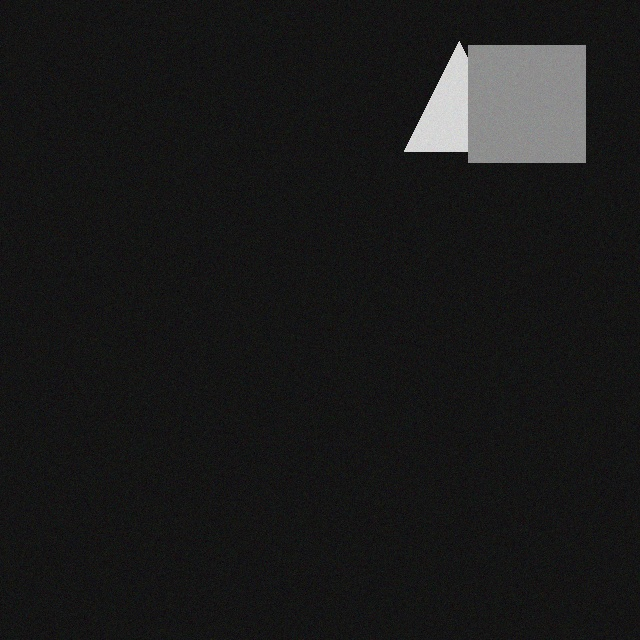square: (467, 43, 584, 160)
triangle: (403, 39, 513, 149)
